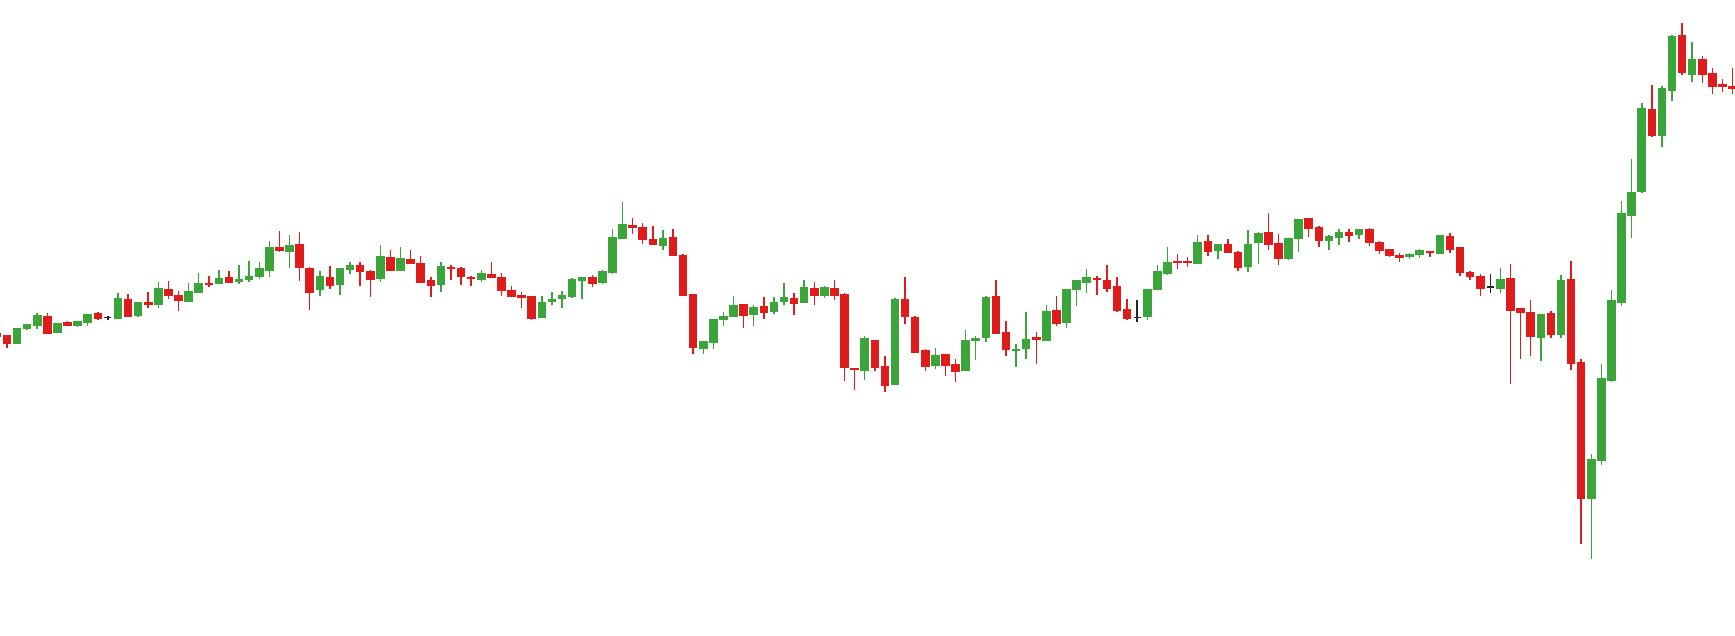buy: (687, 306, 871, 392)
